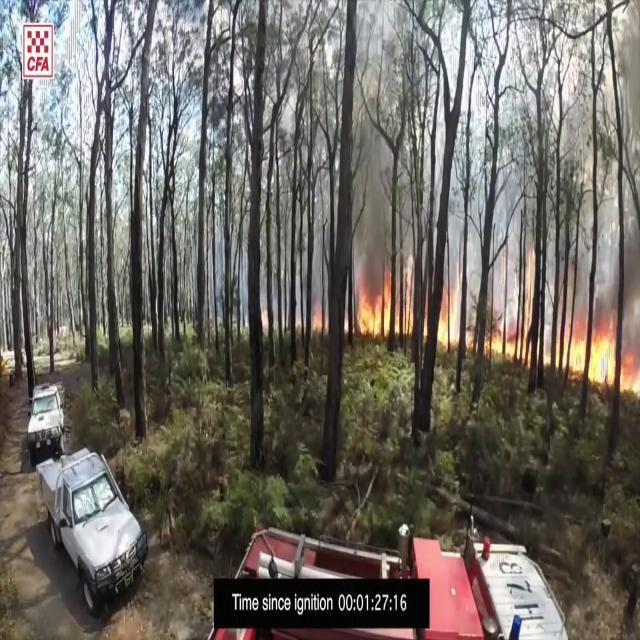Fire: (562, 316, 640, 402), (352, 276, 404, 344), (478, 316, 532, 368)
Smoke: (328, 80, 409, 296)
